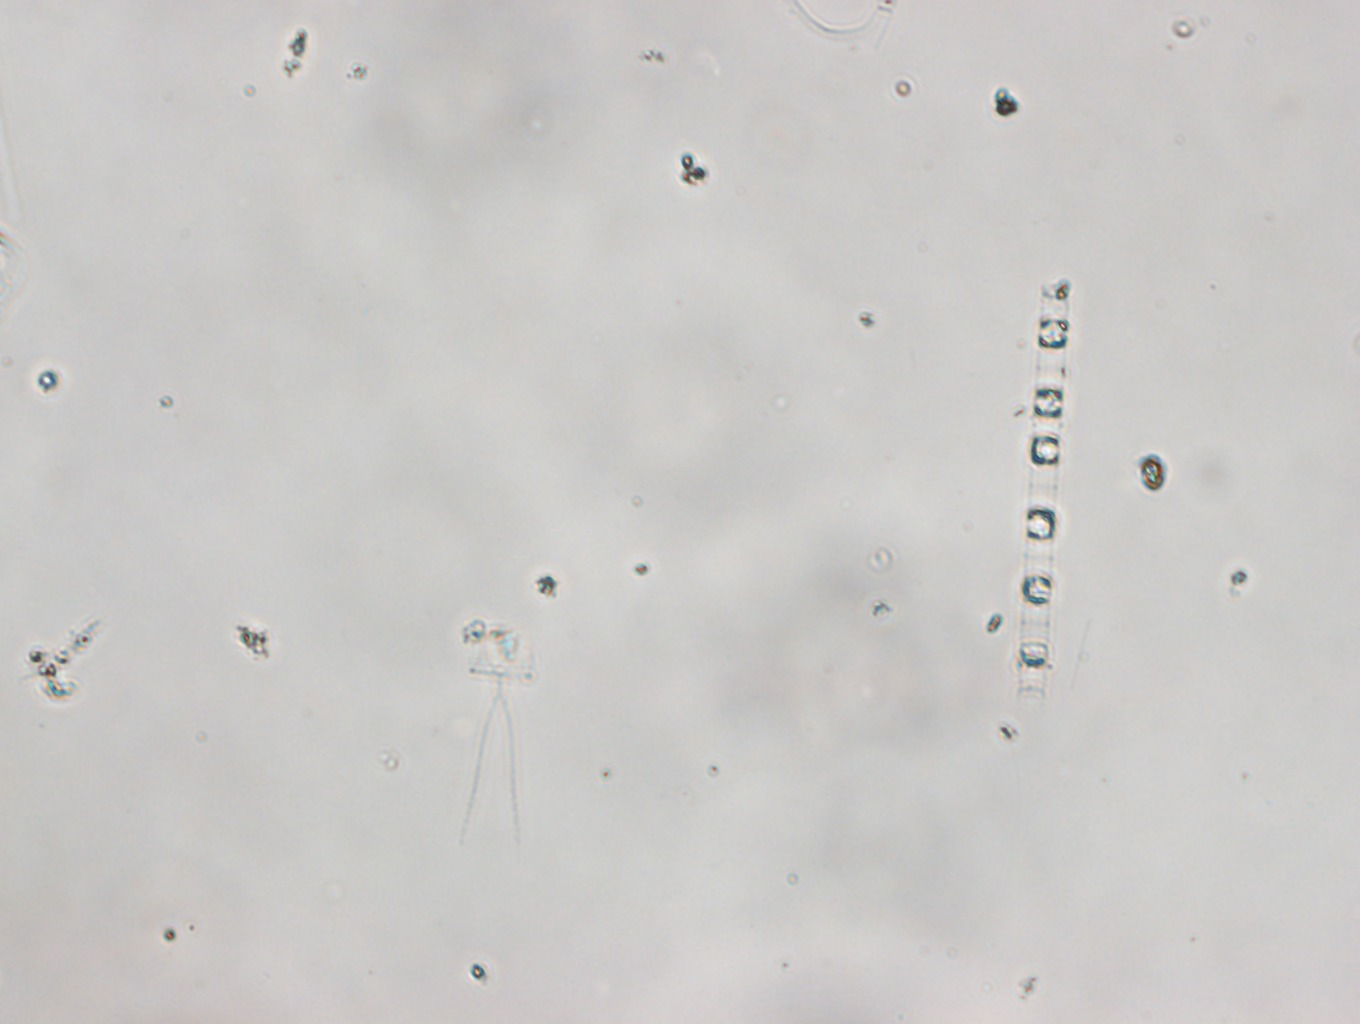skeletonema: (1001, 260, 1093, 715)
